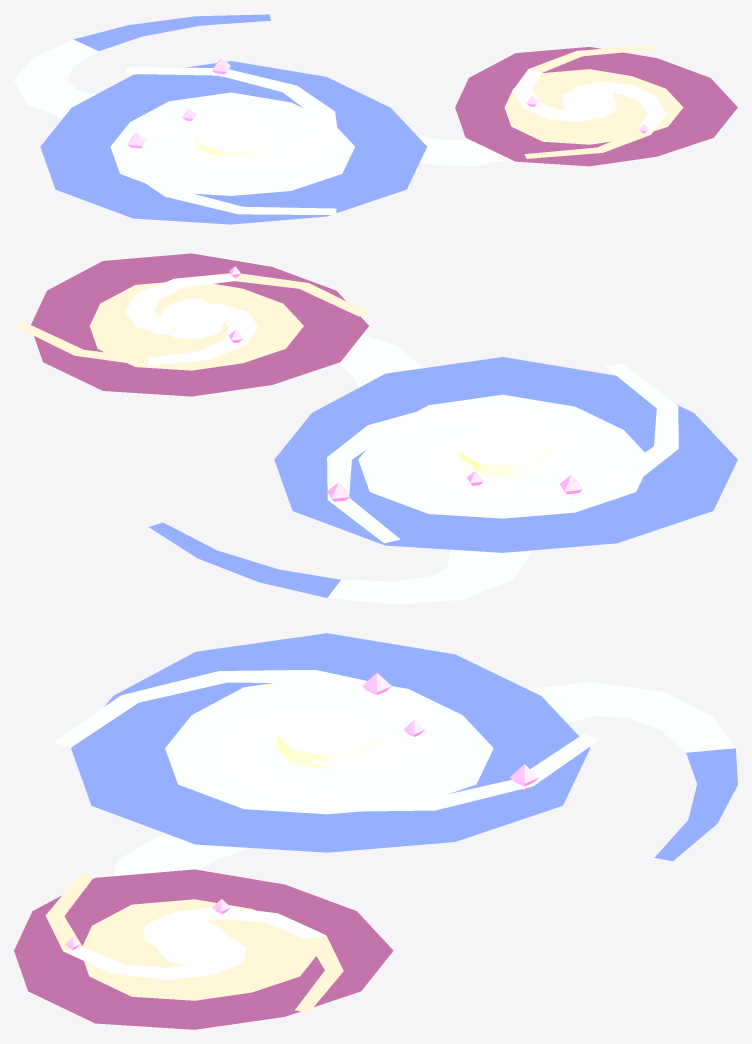
File: galaxy_pair.glb
The picture shows the model from 3 angles, top to bottom: view 1: azimuth 30°, elevation 25°; view 2: azimuth 150°, elevation 25°; view 3: azimuth 270°, elevation 25°; orthographic projection. The views are drawn at different scales.
Parts seen in each view (by area): view 1: body; view 2: body; view 3: body.
Part boxes in pixels (x1,y1,x2,y2): body: (14,14,737,224); body: (14,253,737,604); body: (14,633,737,1029).
Bounding box in the file's own units: 184 × 11.44 × 142.
